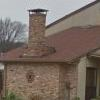Chimney: (22, 5, 55, 62)
